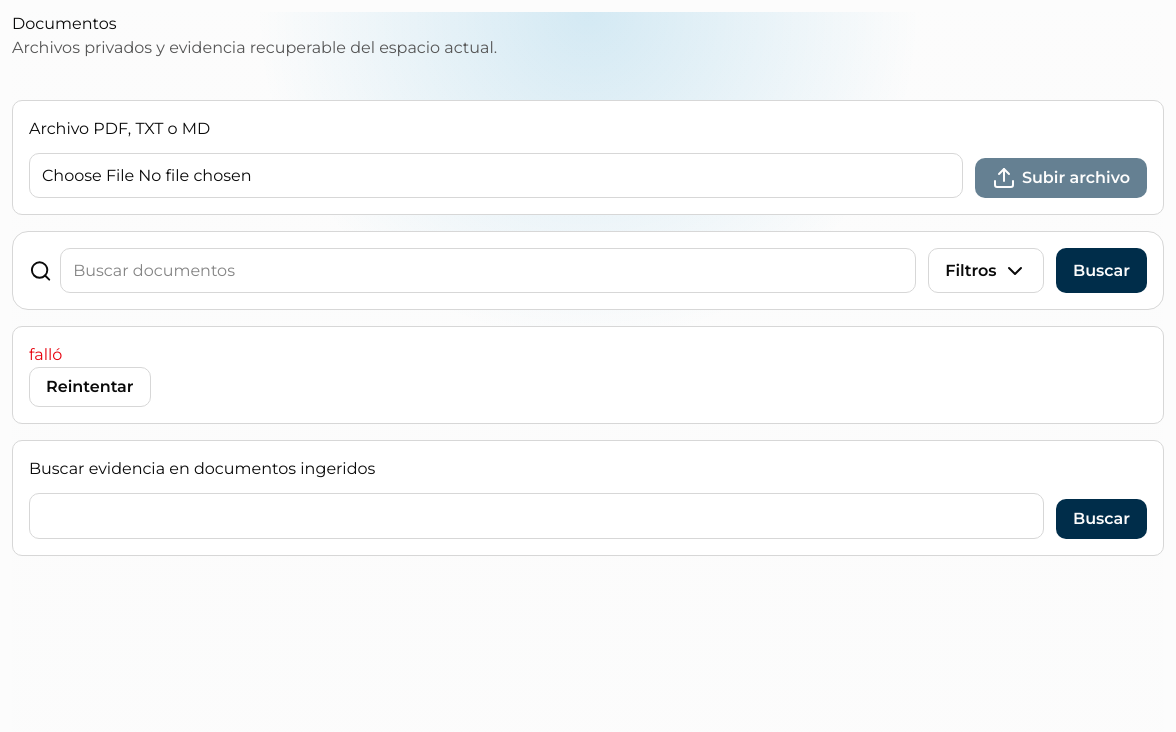
Test case: DocumentsPage › retries a failed list request without removing the toolbar
Check: the message shows "falló", box [29,345,62,364]
Click the button "Reintentar".
click(90, 387)  # box [29,367,151,407]
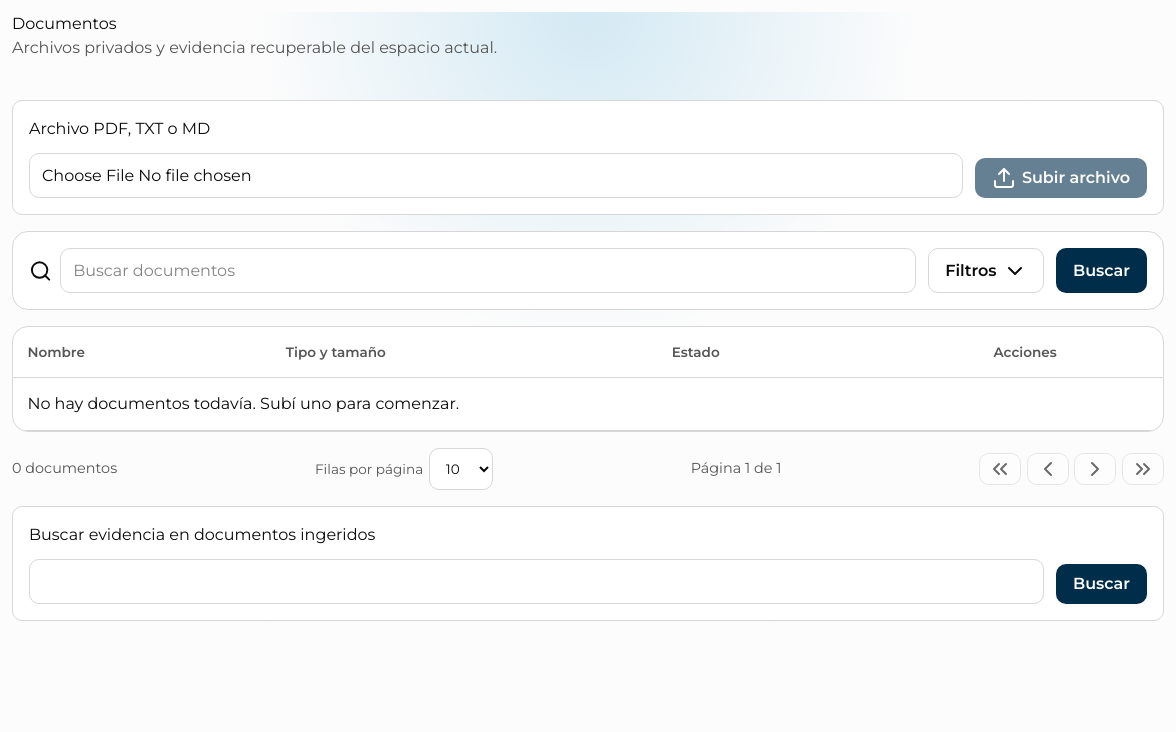
Check: the text "No hay documentos todavía. Subí uno para comenzar." is shown, box [13,377,1163,431]
